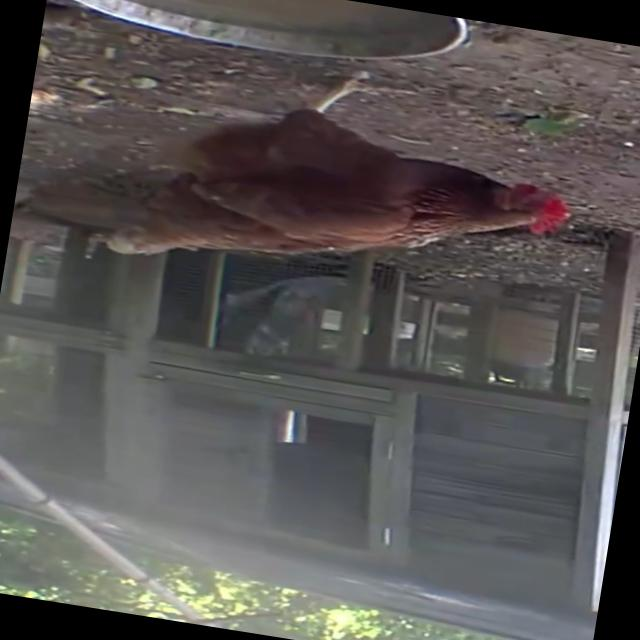walking: (76, 27, 592, 329)
